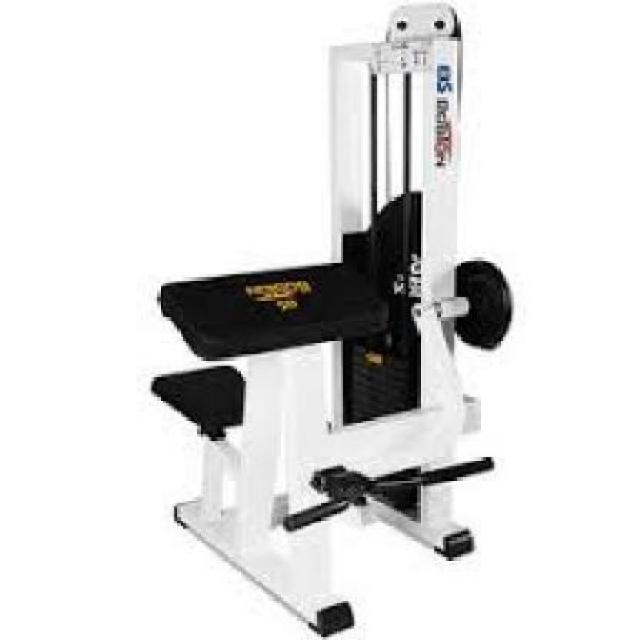arm curl machine: (151, 5, 515, 637)
